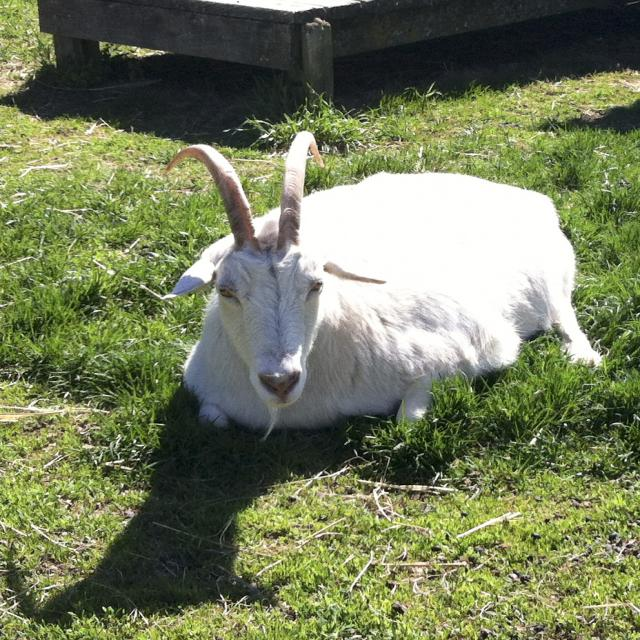Goat: (167, 126, 608, 432)
